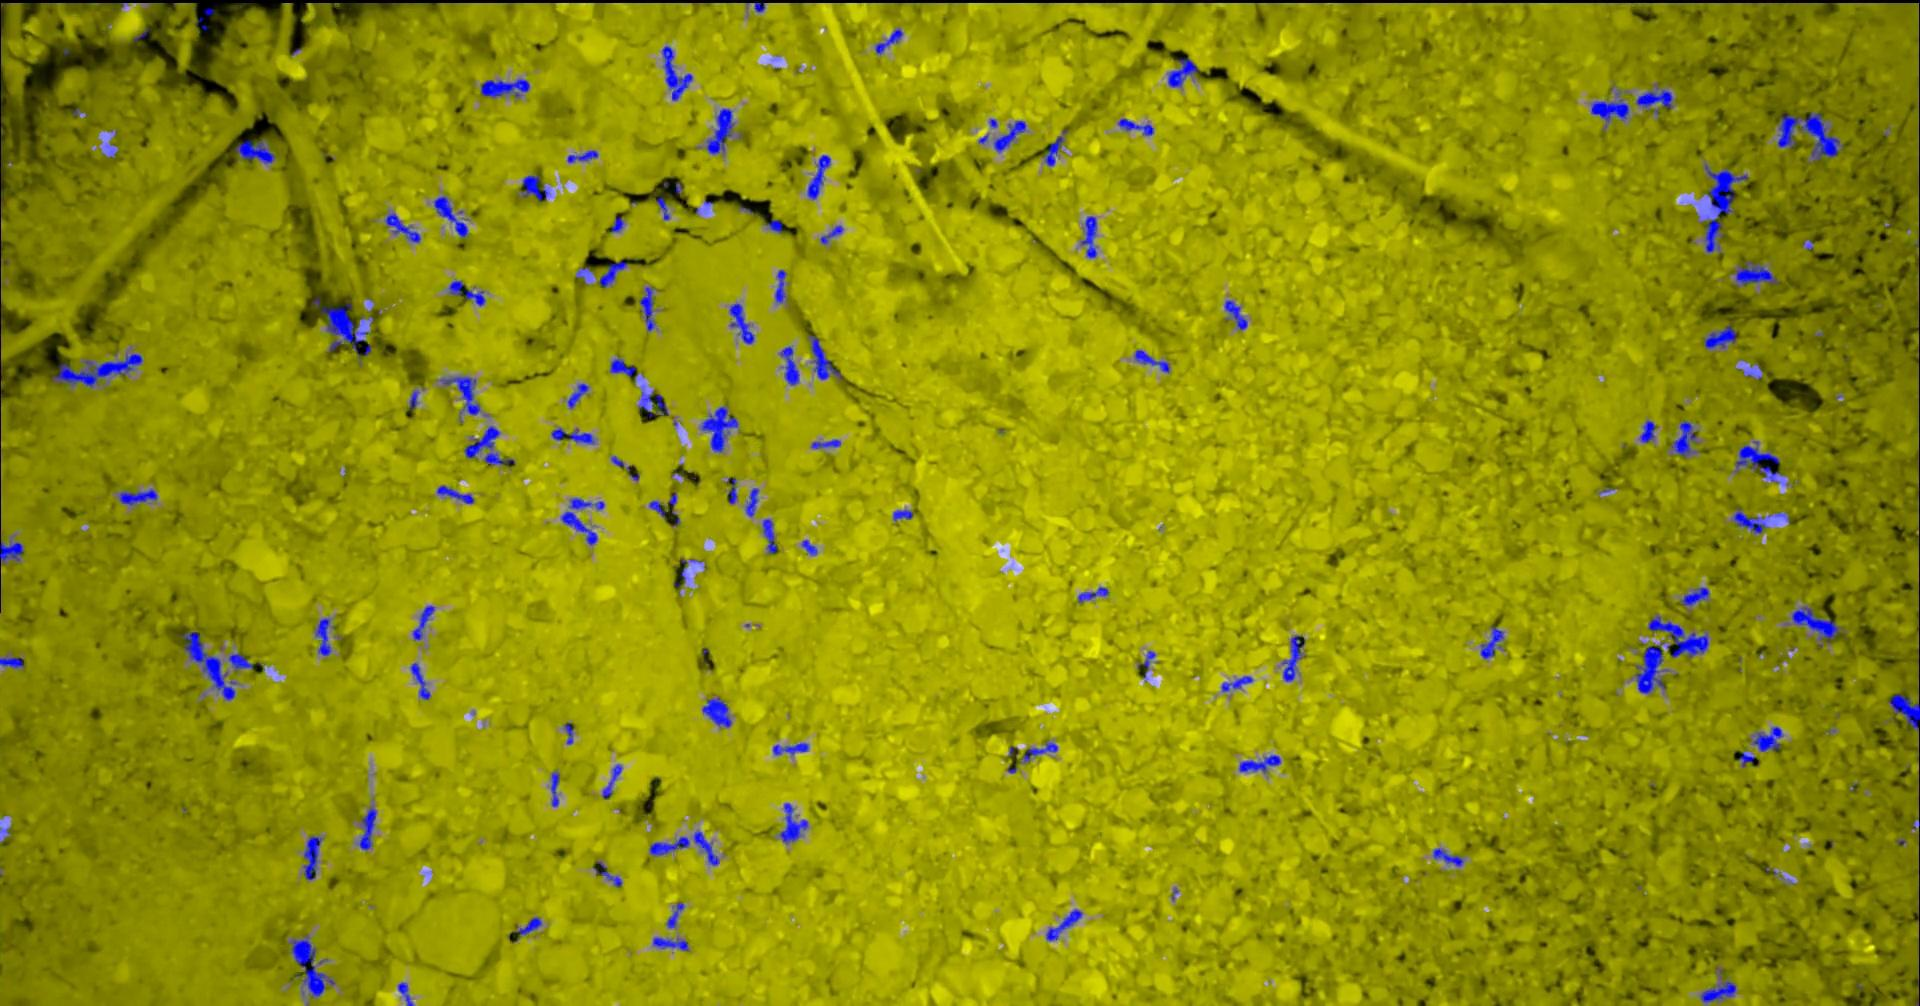ant: (182, 631, 235, 700), (320, 304, 371, 363), (290, 935, 334, 996), (1647, 615, 1708, 657), (560, 497, 604, 544), (1735, 439, 1782, 481), (1790, 606, 1839, 647), (463, 426, 514, 464), (662, 44, 692, 100), (700, 406, 737, 452), (1636, 644, 1667, 694), (439, 376, 479, 414), (433, 196, 467, 238), (808, 335, 841, 379), (1590, 90, 1628, 126), (778, 801, 808, 843), (706, 108, 733, 152), (1887, 694, 1919, 730), (806, 154, 830, 199), (1045, 909, 1081, 940), (383, 213, 420, 243), (1281, 635, 1304, 681), (1735, 260, 1778, 285), (234, 138, 276, 163), (993, 119, 1025, 151), (729, 304, 754, 343), (480, 77, 530, 97), (448, 279, 485, 305), (1671, 420, 1697, 457), (1167, 57, 1197, 86), (1733, 508, 1768, 533), (693, 831, 719, 865), (702, 697, 731, 727), (303, 835, 323, 879), (1134, 349, 1170, 372), (411, 605, 434, 640), (1636, 89, 1672, 111), (598, 260, 627, 287), (778, 345, 799, 384), (637, 391, 668, 417), (649, 836, 690, 855), (1703, 324, 1735, 348), (639, 286, 655, 332), (1481, 625, 1503, 658), (874, 28, 902, 55), (1238, 754, 1280, 772), (1700, 981, 1735, 1002), (315, 617, 334, 655), (410, 663, 430, 699), (551, 427, 594, 443), (593, 861, 621, 887), (1752, 727, 1782, 751), (118, 488, 157, 506), (1022, 741, 1057, 761), (359, 807, 376, 848), (521, 175, 549, 199), (1079, 216, 1096, 257), (1224, 300, 1247, 329), (436, 485, 472, 503), (602, 763, 621, 798), (610, 358, 637, 380), (1117, 118, 1153, 135), (1044, 136, 1063, 165), (0, 539, 23, 563), (1432, 848, 1463, 866), (1077, 586, 1109, 602), (762, 518, 777, 553), (1680, 587, 1709, 605), (1137, 650, 1156, 677), (1222, 674, 1252, 691), (568, 384, 588, 408), (665, 902, 684, 927), (651, 937, 688, 950), (819, 225, 843, 244), (772, 742, 808, 754), (516, 917, 541, 935), (229, 652, 251, 669), (568, 150, 598, 163), (745, 486, 758, 516), (397, 982, 413, 1005), (775, 269, 785, 302), (1639, 420, 1655, 442), (655, 196, 669, 218), (550, 771, 559, 807), (648, 500, 665, 517), (800, 539, 817, 555), (810, 439, 841, 448), (0, 655, 23, 667), (764, 218, 782, 232), (1738, 751, 1754, 766), (610, 216, 623, 232), (728, 478, 737, 503), (891, 509, 912, 520), (563, 721, 571, 744), (409, 390, 418, 412), (754, 0, 764, 11)
